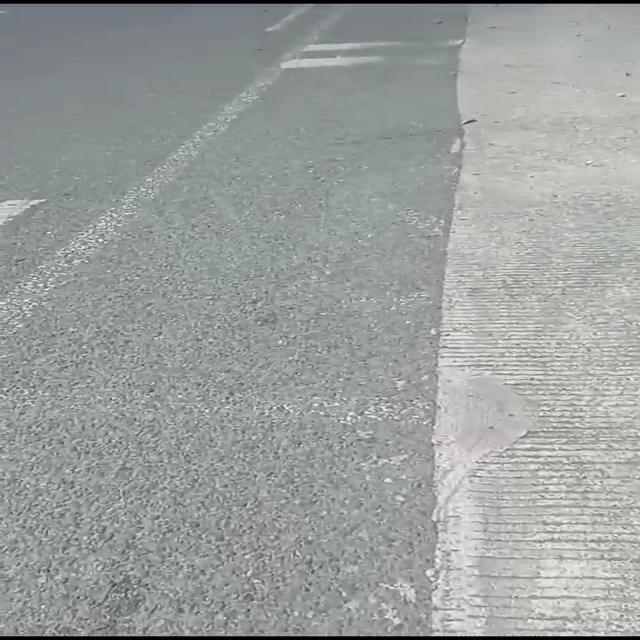Sambungan: (435, 0, 640, 640)
